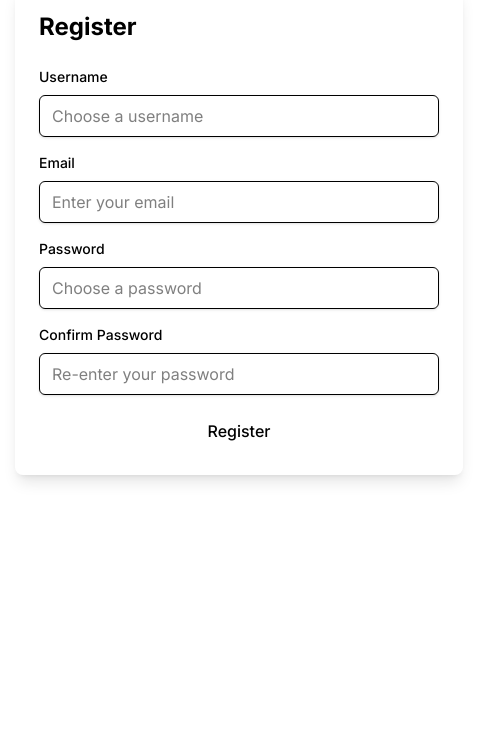
Test case: RegisterForm › Error Handling › displays generic error for network failures
The image size is (479, 747).
Type "testuser" into the field labelled "Username" at (239, 116), box [39,95,439,137]
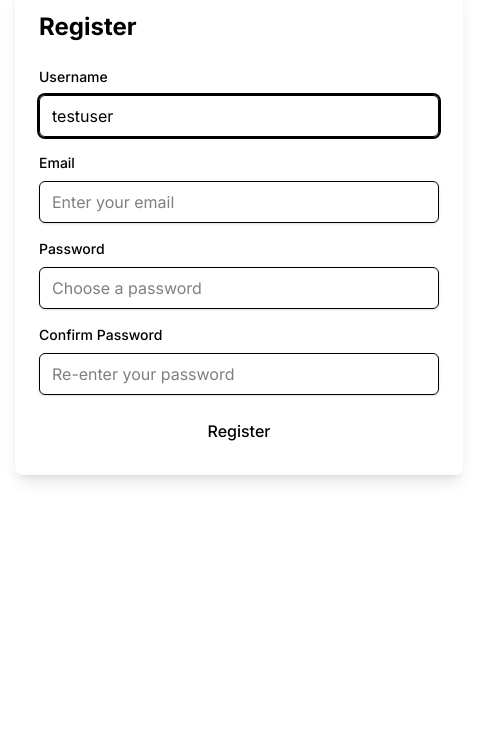
Type "test@example.com" into the field labelled "Email" at (239, 202), box [39,181,439,223]
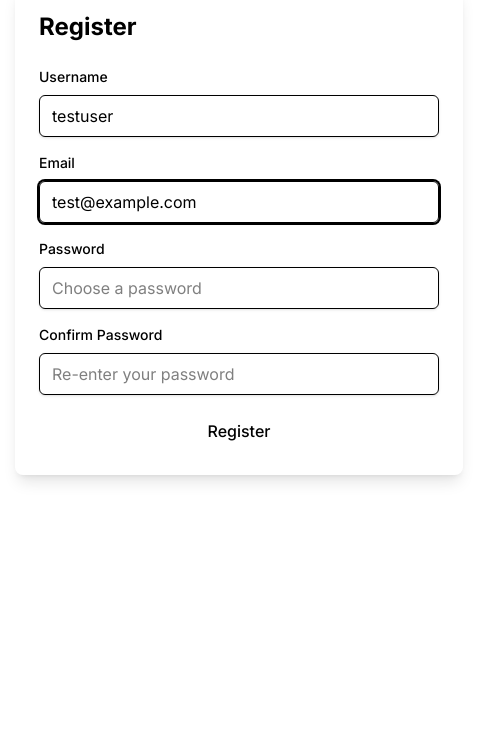
Type "password123" into the password field labelled "Password" at (239, 288), box [39,267,439,309]
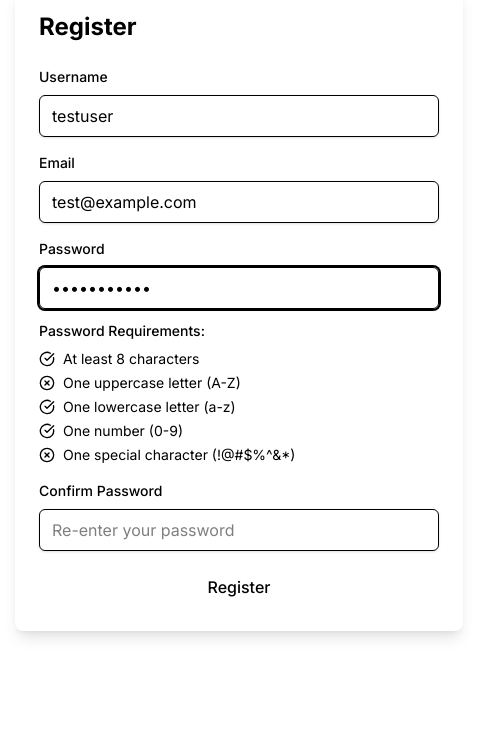
Type "password123" into the password field labelled "Confirm Password" at (239, 530), box [39,509,439,551]
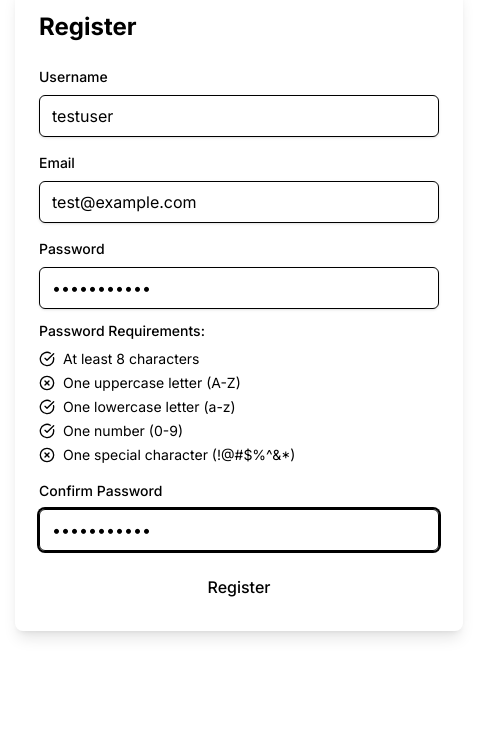
Click the button "Register" at (239, 587), box [39,567,439,607]
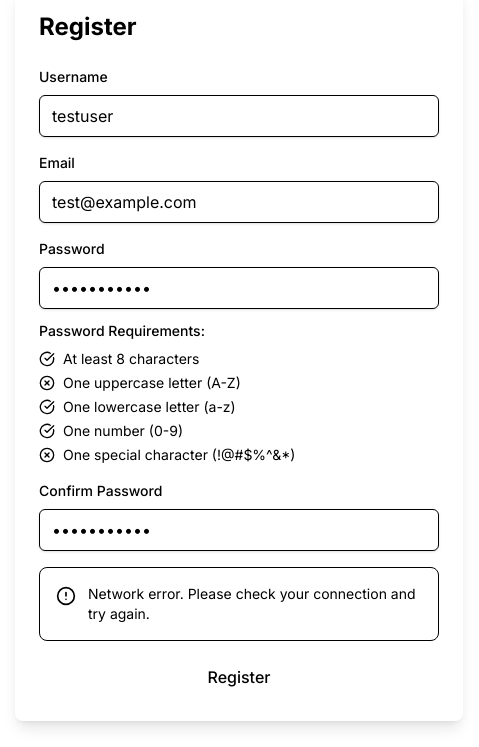
Result: the text "Network error. Please check your connection and try again." is shown at [88,584,422,624]
